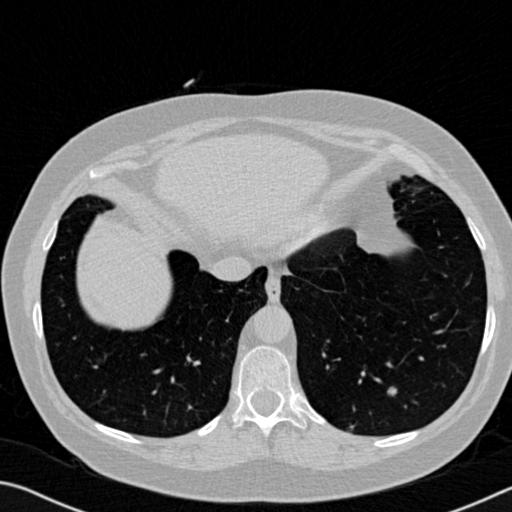nodule: (385, 384, 400, 399)
